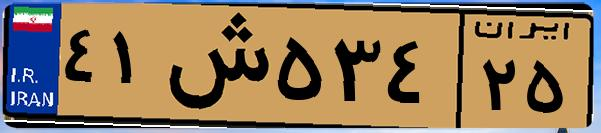1: (110, 28, 158, 98)
2: (475, 38, 525, 113)
3: (330, 28, 385, 110)
4: (385, 28, 445, 110), (57, 26, 110, 100)
5: (270, 28, 330, 110), (525, 38, 570, 115)
ش: (158, 12, 270, 120)
